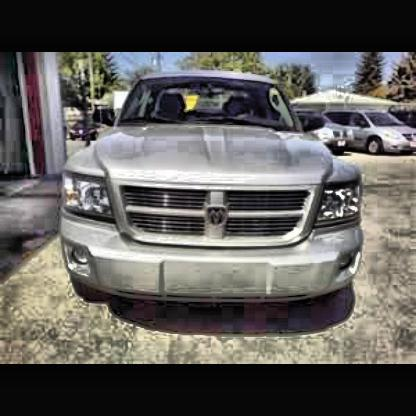Dodge Dakota Crew Cab 2010: (64, 73, 363, 318)
